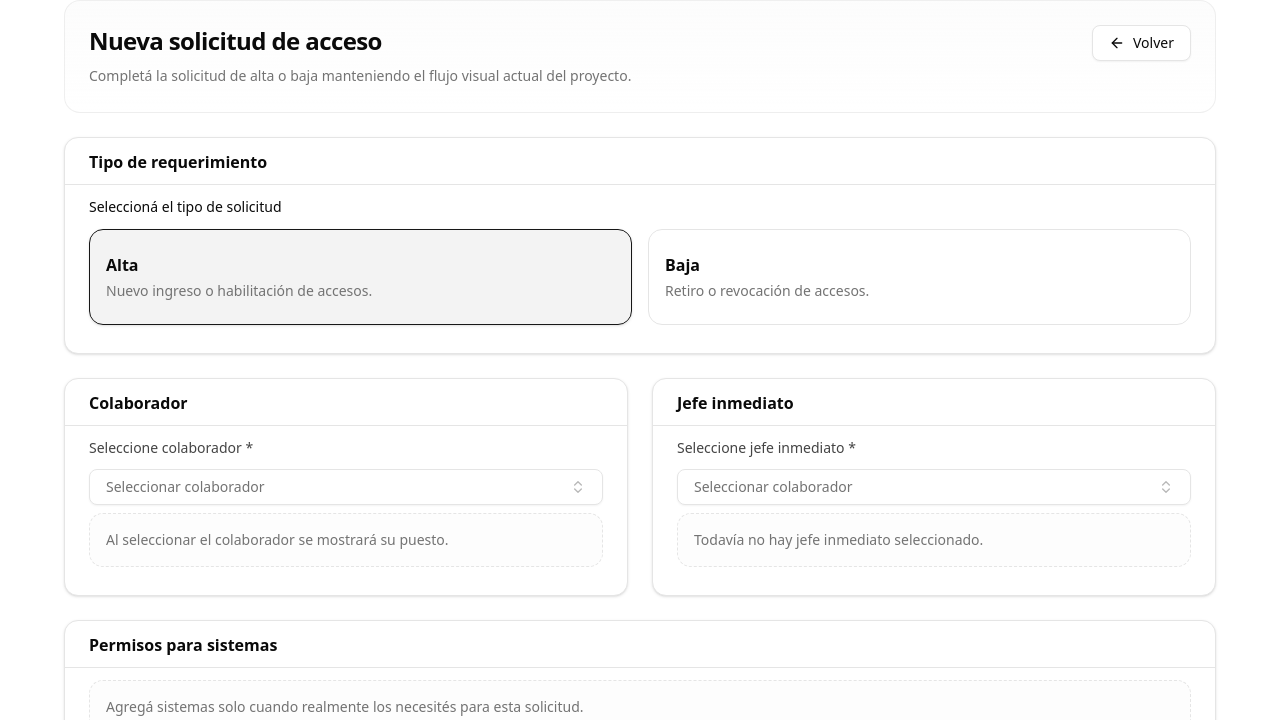
MiAccesoNewRequestPage › no muestra el área dentro de los selects de búsqueda
What coordinates should you click on to do the following:
click the dropdown named "solicitante"
I would click on:
 (185, 486)
Its box is [89,469,603,505].
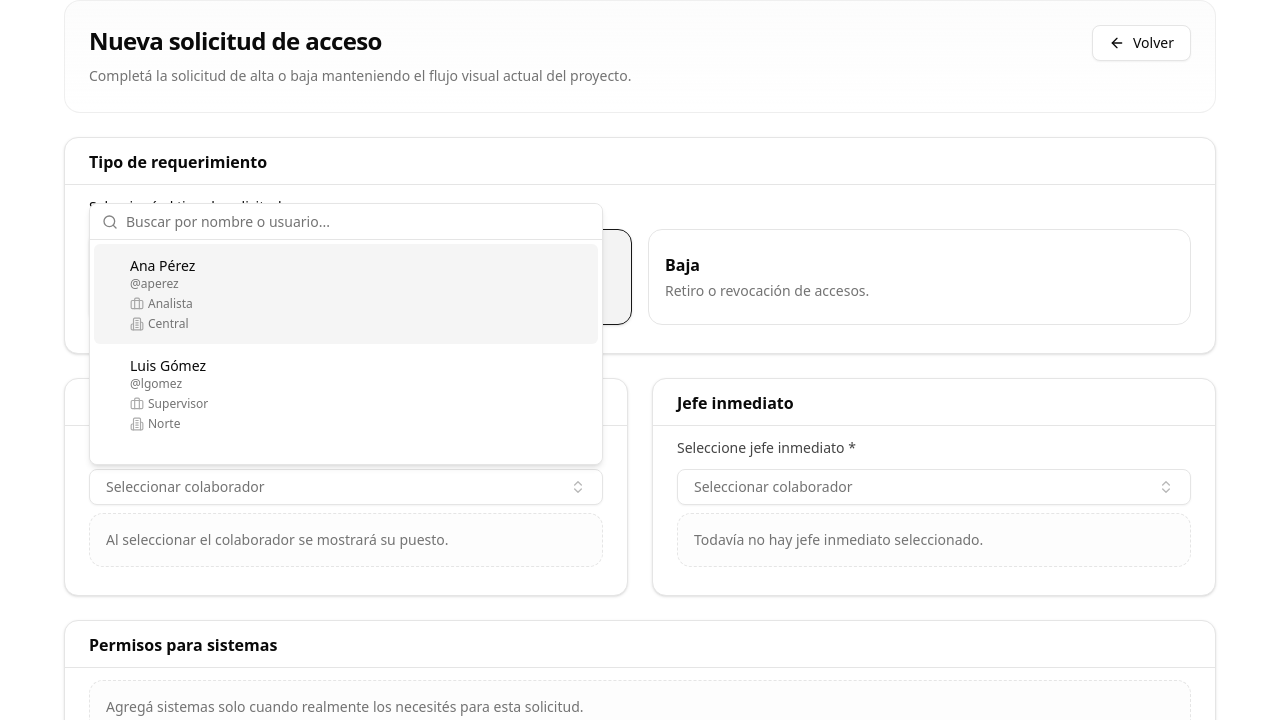
Result: the text "Analista" is shown at [130,296,193,312]
Result: the text "Central" is shown at [130,316,189,332]
